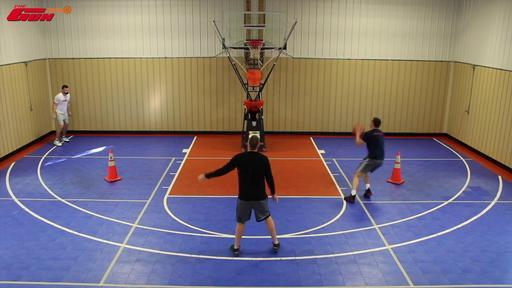ball: (353, 126, 364, 137)
human: (198, 135, 280, 258), (344, 117, 386, 204), (52, 84, 72, 146)
rim: (243, 39, 266, 59)
